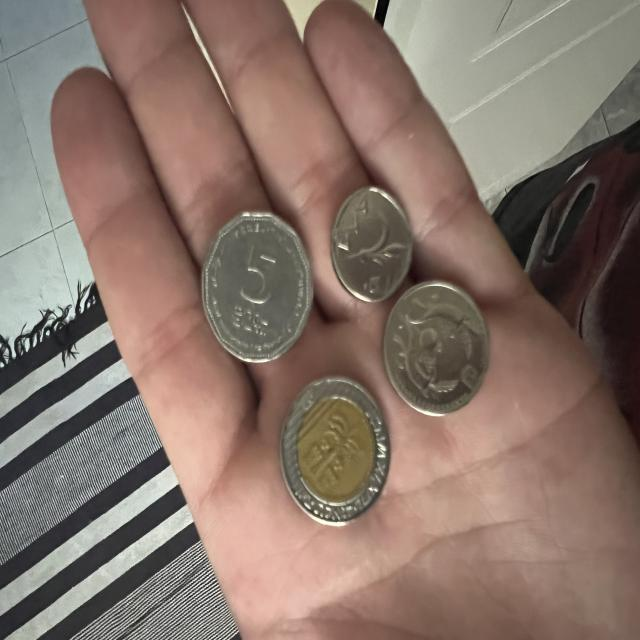1-shekel: (328, 185, 414, 299)
10-shekel: (276, 374, 397, 525)
2-shekel: (380, 278, 497, 422)
5-shekel: (199, 208, 310, 362)
